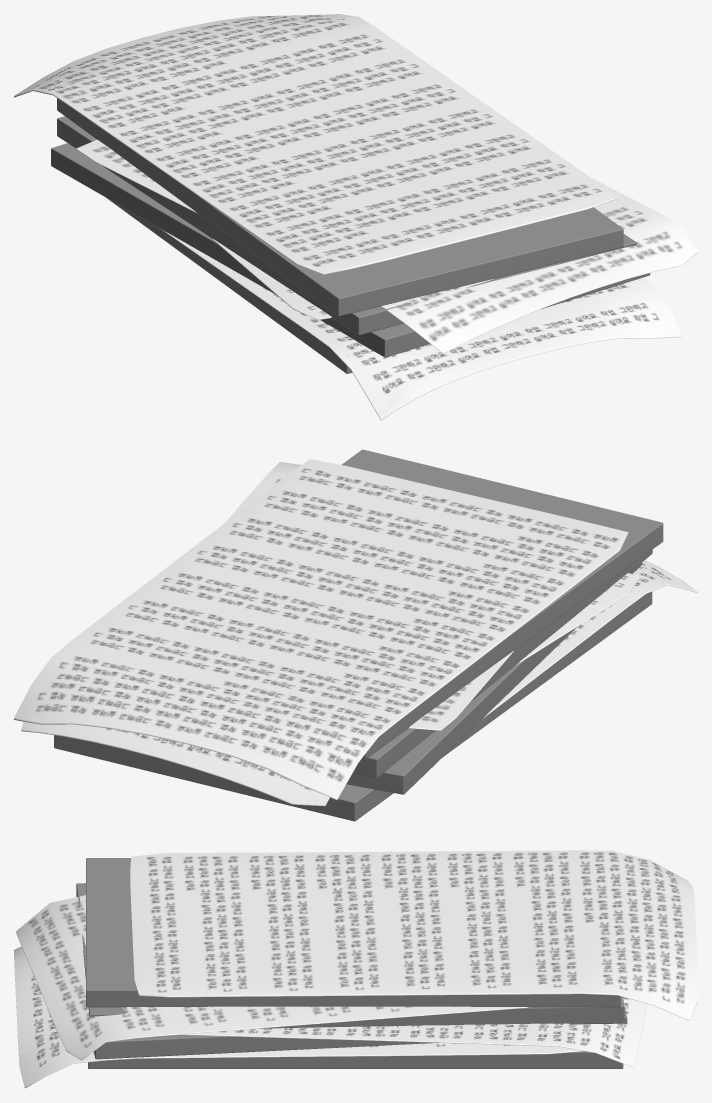
File: Paper_stack.fbx
3 renders of one model, top to bottom at view 1: azimuth 30°, elevation 25°; view 2: azimuth 150°, elevation 25°; view 3: azimuth 270°, elevation 25°, orthographic. The views are drawn at different scales.
Visible parts, largest first — view 1: polySurface12, pCube4, polySurface22, polySurface23, pCube2, pCube3, pCube1, polySurface8; view 2: polySurface12, pCube4, polySurface8, pCube1, pCube2, pCube3, polySurface22, polySurface23; view 3: polySurface12, polySurface23, pCube4, polySurface8, polySurface22, pCube1, pCube3, pCube2.
Boxes of the visible parts, left/top/right/bottom form: polySurface12: left=14, top=14, right=617, bottom=274; pCube4: left=57, top=98, right=623, bottom=316; polySurface22: left=159, top=228, right=681, bottom=420; polySurface23: left=76, top=139, right=697, bottom=353; pCube2: left=51, top=143, right=650, bottom=357; pCube3: left=57, top=116, right=636, bottom=335; pCube1: left=107, top=198, right=352, bottom=373; polySurface8: left=208, top=236, right=331, bottom=320; polySurface12: left=14, top=459, right=628, bottom=799; pCube4: left=341, top=449, right=663, bottom=758; polySurface8: left=21, top=573, right=640, bottom=806; pCube1: left=54, top=585, right=652, bottom=821; pCube2: left=346, top=562, right=642, bottom=794; pCube3: left=353, top=549, right=652, bottom=778; polySurface22: left=482, top=560, right=697, bottom=719; polySurface23: left=225, top=462, right=513, bottom=730; polySurface12: left=130, top=850, right=697, bottom=1020; polySurface23: left=16, top=895, right=531, bottom=1060; pCube4: left=86, top=858, right=620, bottom=1007; polySurface8: left=178, top=997, right=647, bottom=1067; polySurface22: left=14, top=946, right=583, bottom=1088; pCube1: left=88, top=1051, right=623, bottom=1068; pCube3: left=76, top=883, right=624, bottom=1028; pCube2: left=93, top=1006, right=627, bottom=1059.
Size of the model in its own units: 3.45 by 0.8791 by 5.62.
2 materials, 1 textured.
